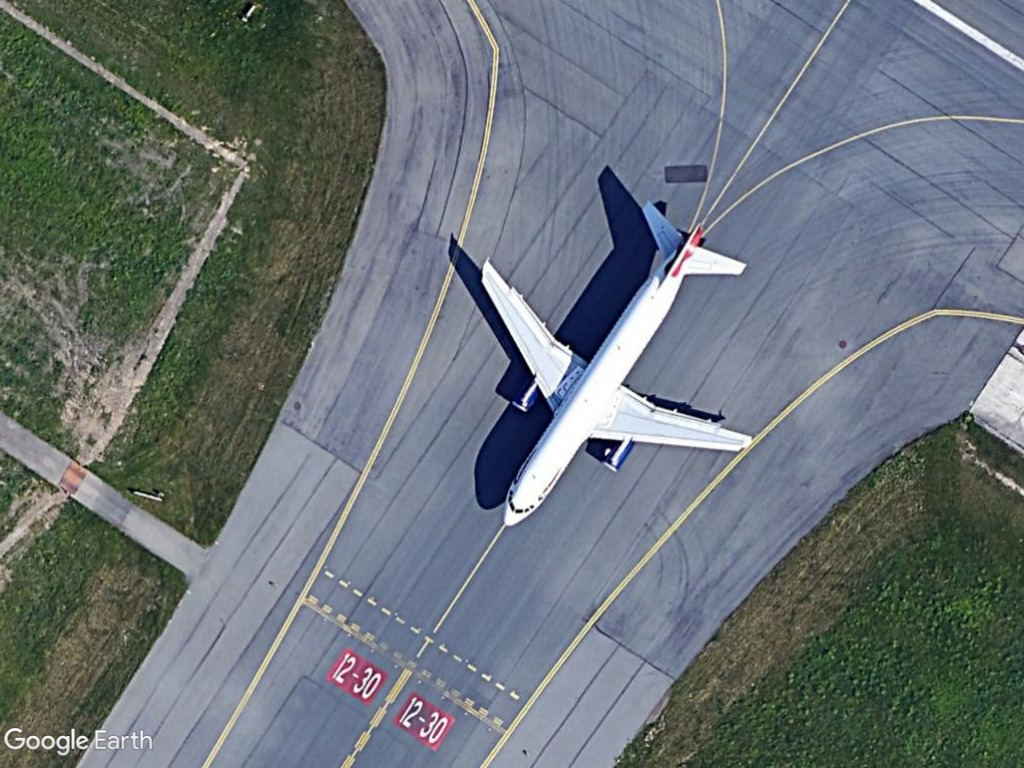airliner: (476, 194, 759, 536)
